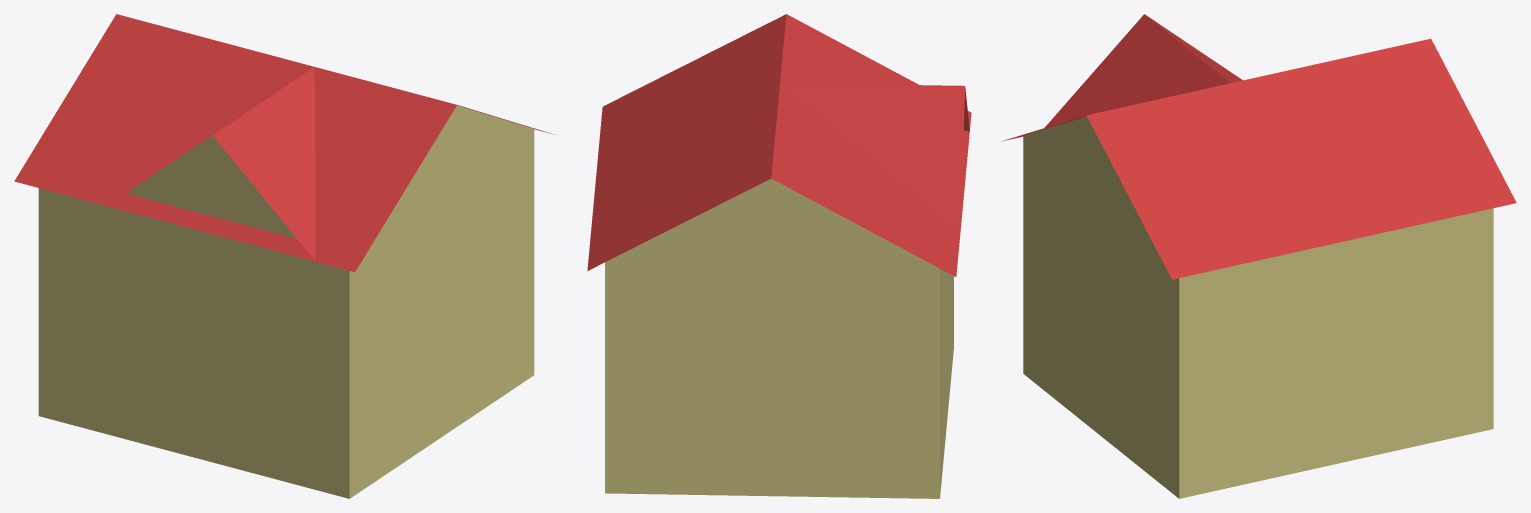
3 renders of one model, left to right at view 1: azimuth 30°, elevation 25°; view 2: azimuth 150°, elevation 25°; view 3: azimuth 270°, elevation 25°, orthographic. The views are drawn at different scales.
Bounding box in the file's own units: 22.36 × 22.74 × 15.77.
